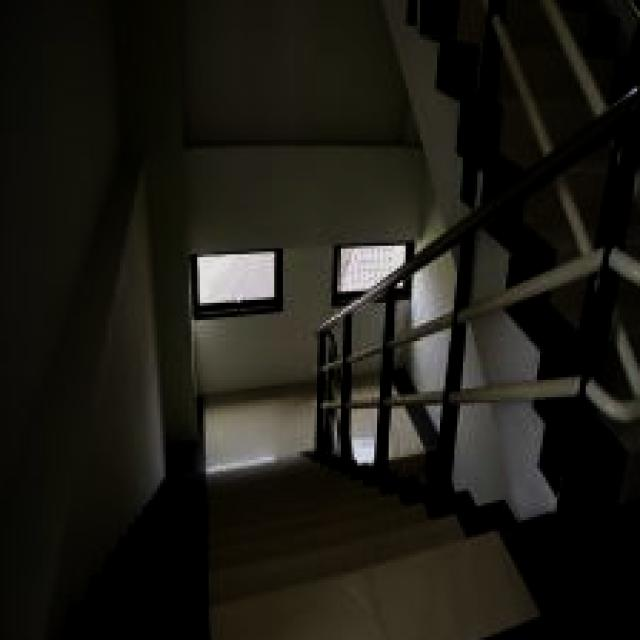downstair: (183, 489, 435, 640)
